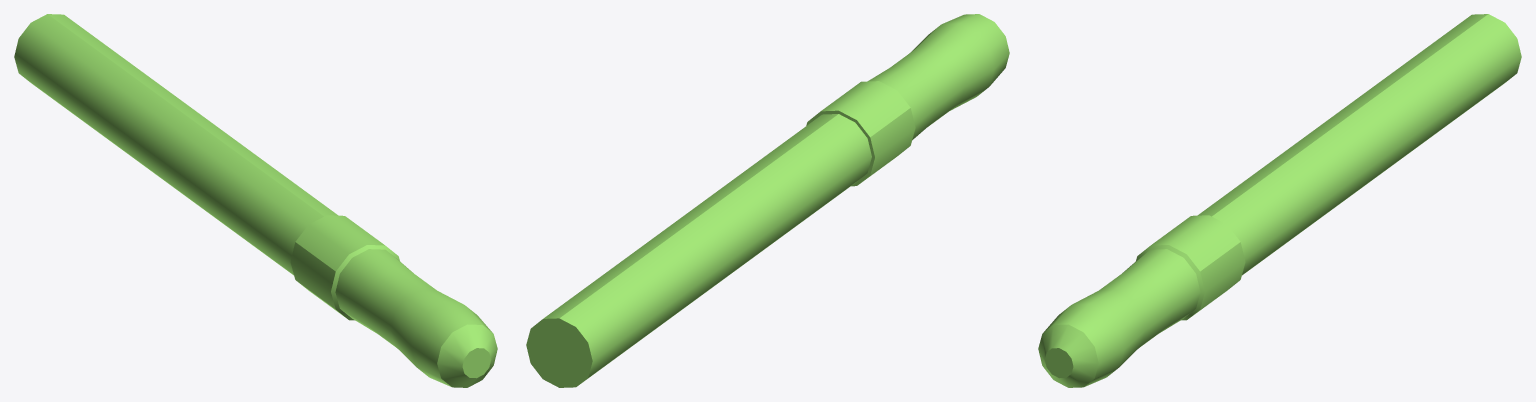
The model's file is Glowstick.fbx.
The picture shows the model from 3 angles, left to right: view 1: azimuth 30°, elevation 25°; view 2: azimuth 150°, elevation 25°; view 3: azimuth 330°, elevation 25°; orthographic projection.
Parts seen in each view (by area): view 1: Cylinder; view 2: Cylinder; view 3: Cylinder.
Boxes of the visible parts, x1,y1,x2,y2 form: Cylinder: (14, 14, 497, 387); Cylinder: (526, 14, 1009, 387); Cylinder: (1038, 14, 1521, 387).
Size of the model in its own units: 4.37 by 4.37 by 44.73.
